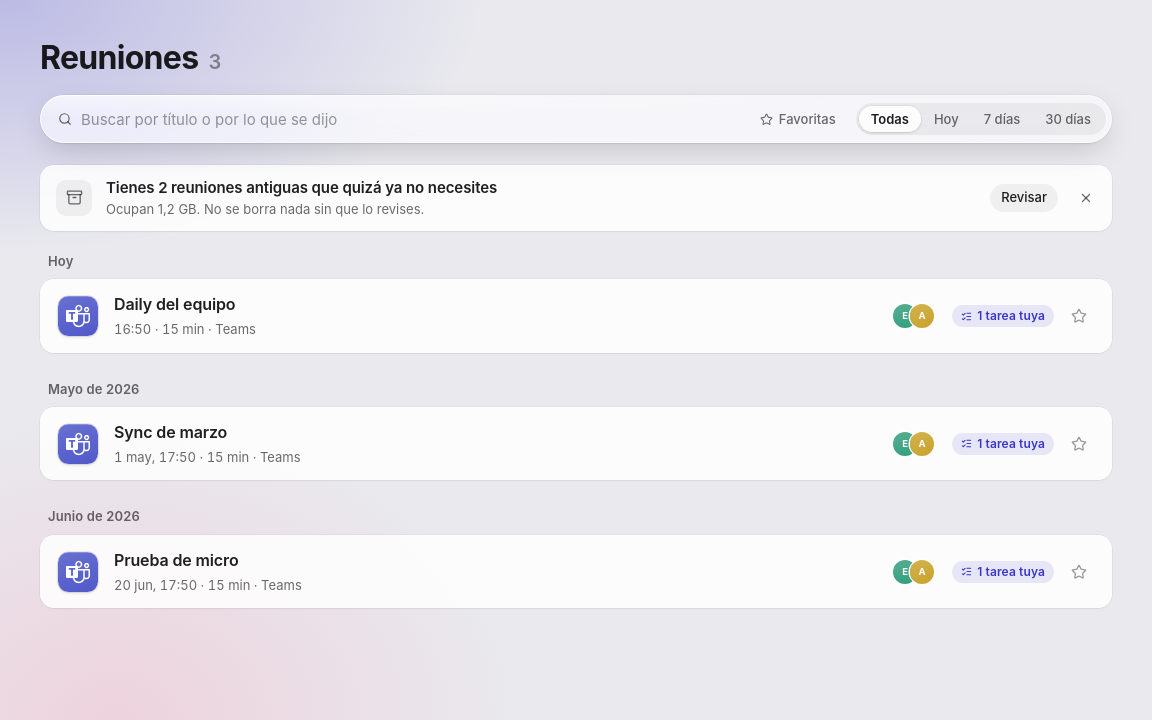
sugerencia de limpieza de reuniones antiguas › cancelar la confirmación no borra nada
Click the button "Revisar" at (1024, 198), box [990, 184, 1058, 212]
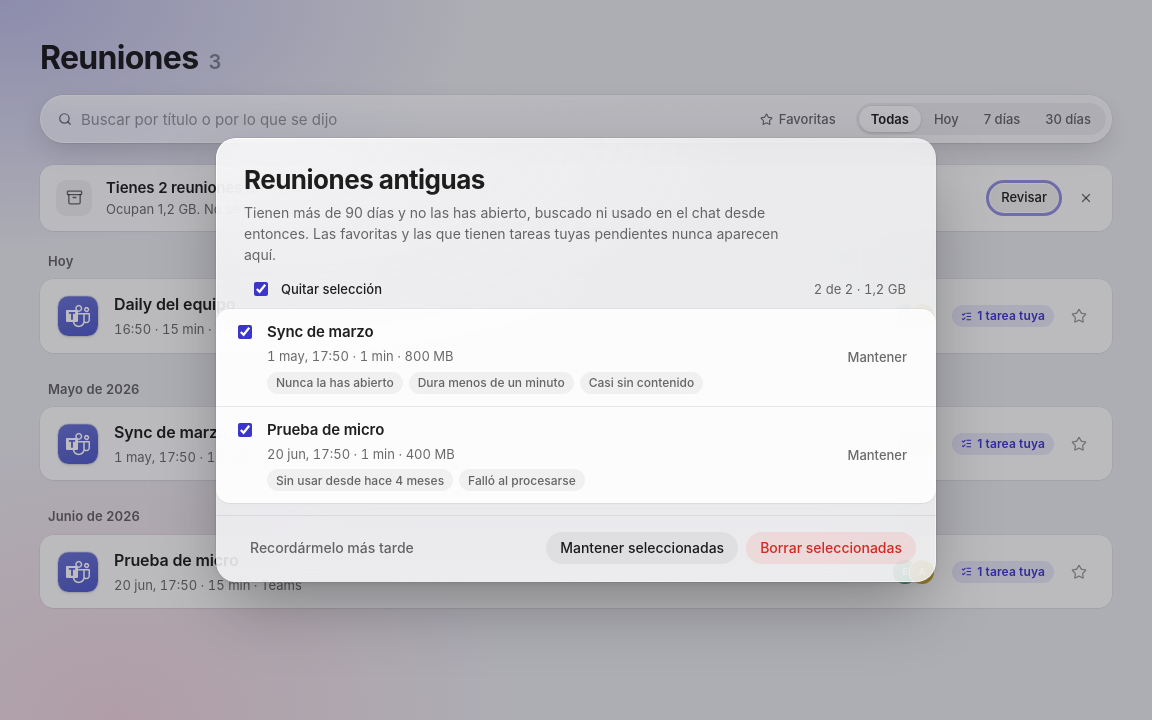
Click the button "Borrar seleccionadas" at (831, 548), box [746, 532, 916, 564]
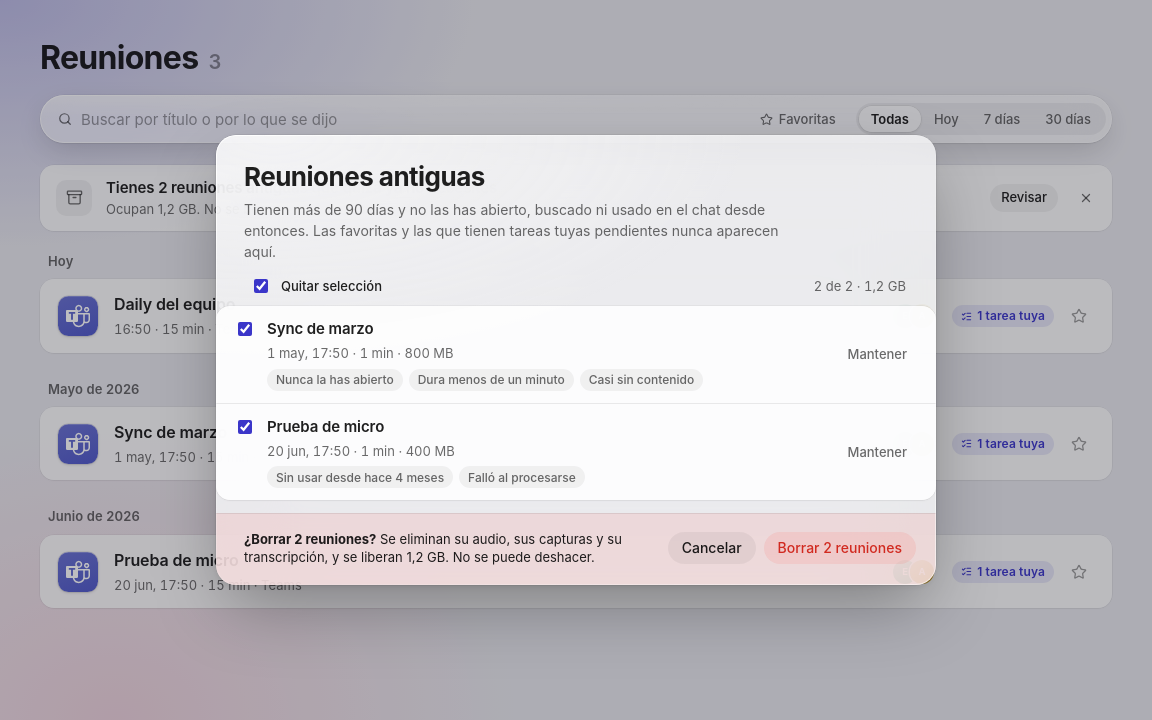
Click the button "Cancelar" at (712, 548), box [668, 532, 756, 564]
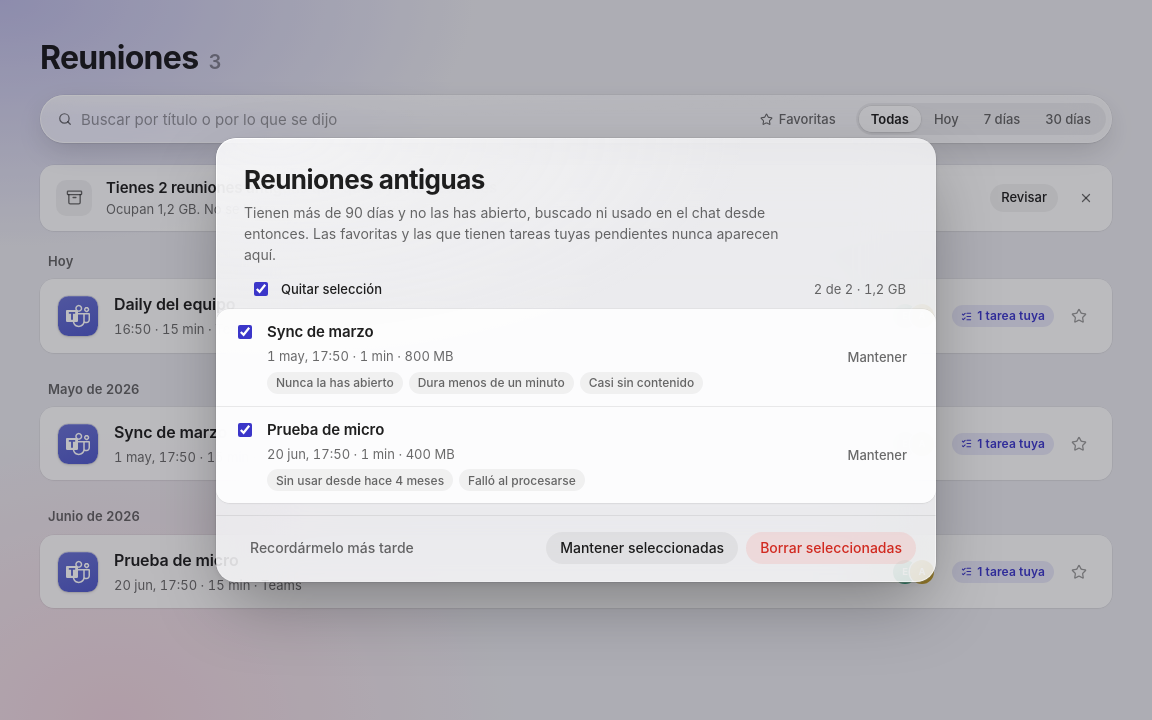
Check: the button "Borrar seleccionadas" is shown, box [746, 532, 916, 564]
